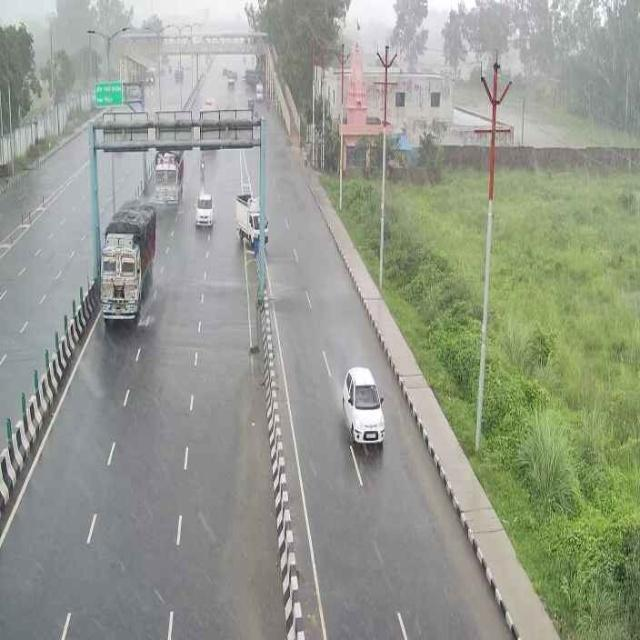car: (338, 359, 389, 460), (233, 190, 266, 251), (190, 188, 219, 232)
